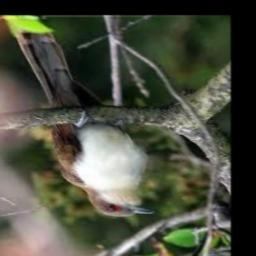Cuckoo: (17, 31, 156, 216)
